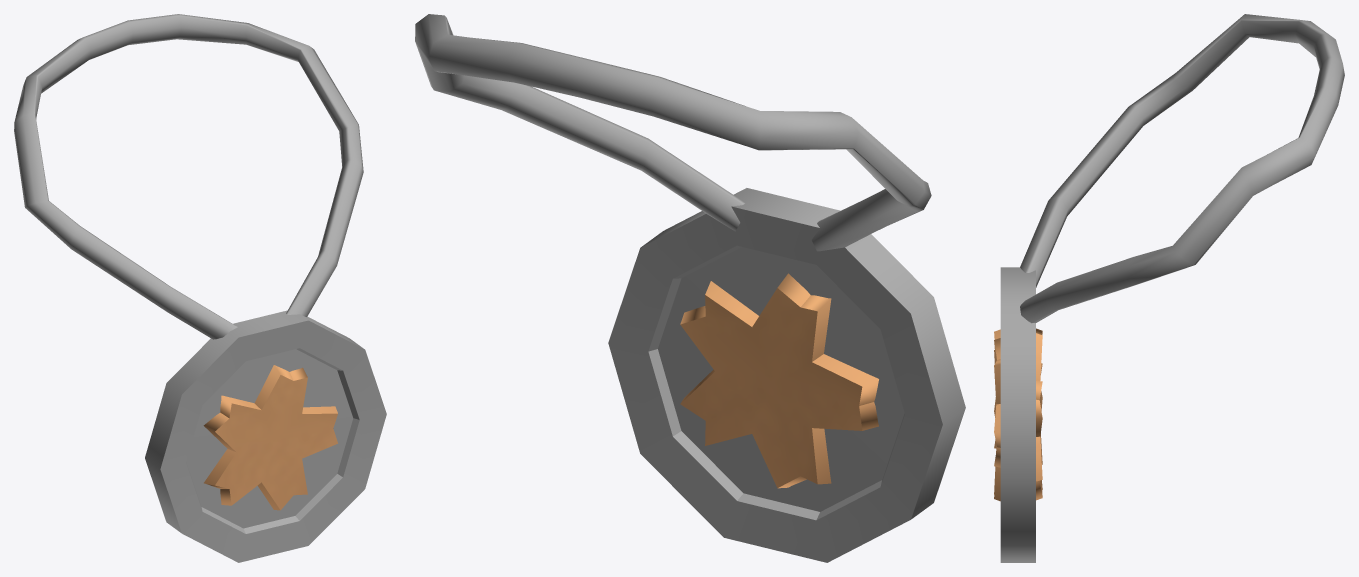
File: CoinNecklace.fbx
The picture shows the model from 3 angles, left to right: view 1: azimuth 30°, elevation 25°; view 2: azimuth 150°, elevation 25°; view 3: azimuth 270°, elevation 25°; orthographic projection. The views are drawn at different scales.
Parts seen in each view (by area): view 1: coin, string5; view 2: coin, string5; view 3: string5, coin.
Part boxes in pixels (bbox=[...]): coin: bbox=[145, 310, 386, 562]; string5: bbox=[14, 14, 363, 339]; coin: bbox=[608, 188, 965, 562]; string5: bbox=[415, 14, 931, 251]; string5: bbox=[1020, 14, 1344, 323]; coin: bbox=[994, 267, 1042, 562].
Bounding box in the file's own units: 19.67 × 24.24 × 15.84.
